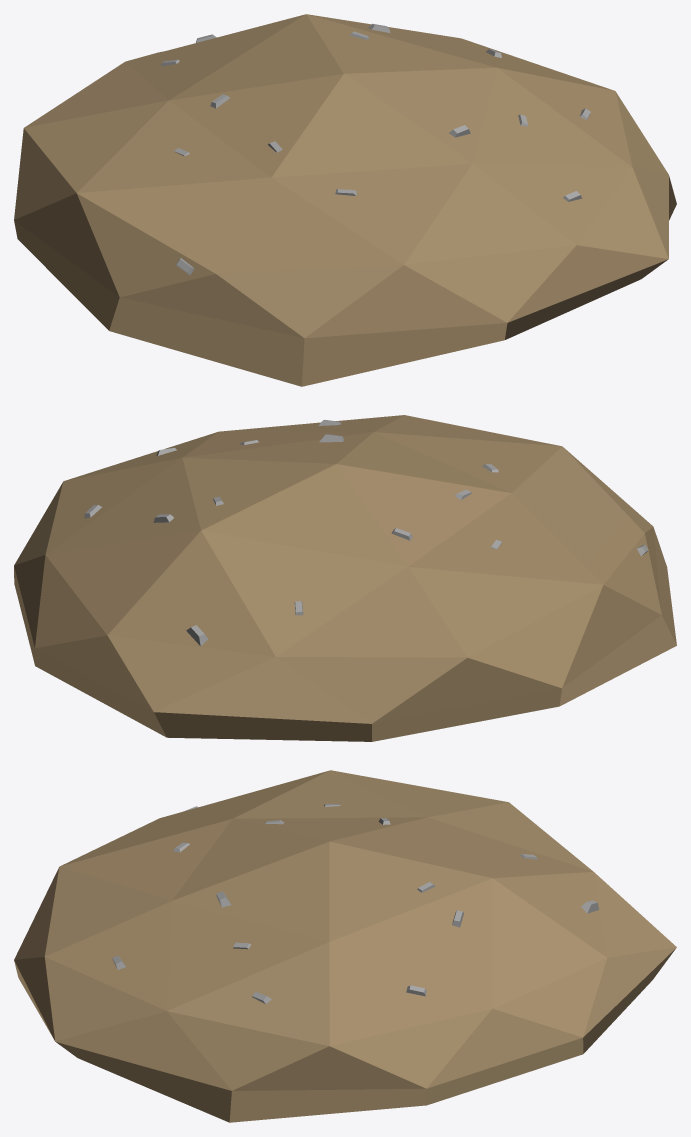
The model's file is Burger_Bread.glb.
3 renders of one model, top to bottom at view 1: azimuth 30°, elevation 25°; view 2: azimuth 150°, elevation 25°; view 3: azimuth 270°, elevation 25°, orthographic. The views are drawn at different scales.
Parts seen in each view (by area): view 1: LightYellow, White; view 2: LightYellow, White; view 3: LightYellow, White.
Part boxes in pixels (x1,y1,x2,y2): LightYellow: [14, 14, 676, 386]; White: [161, 23, 590, 275]; LightYellow: [14, 415, 676, 741]; White: [84, 420, 648, 646]; LightYellow: [14, 770, 676, 1122]; White: [112, 804, 598, 1003].
Bounding box in the file's own units: 1.48 × 0.4047 × 1.58.
